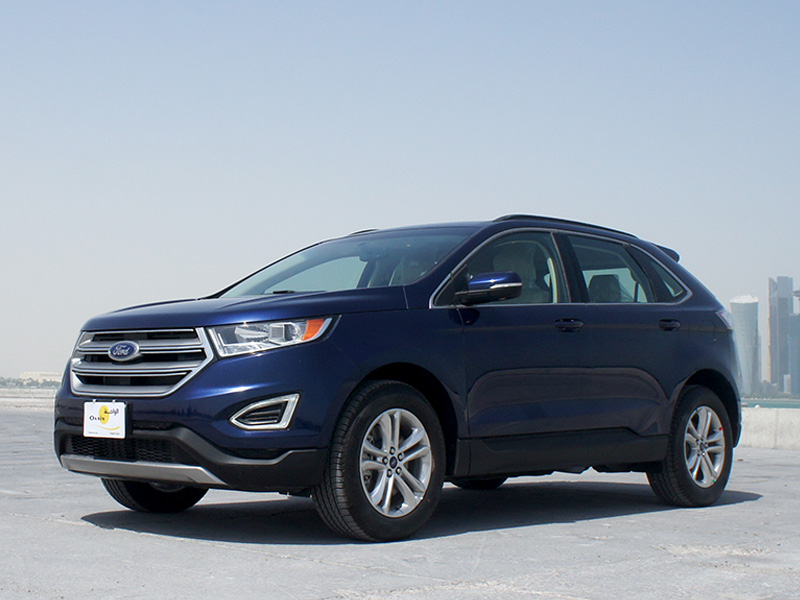other: (37, 207, 744, 523)
